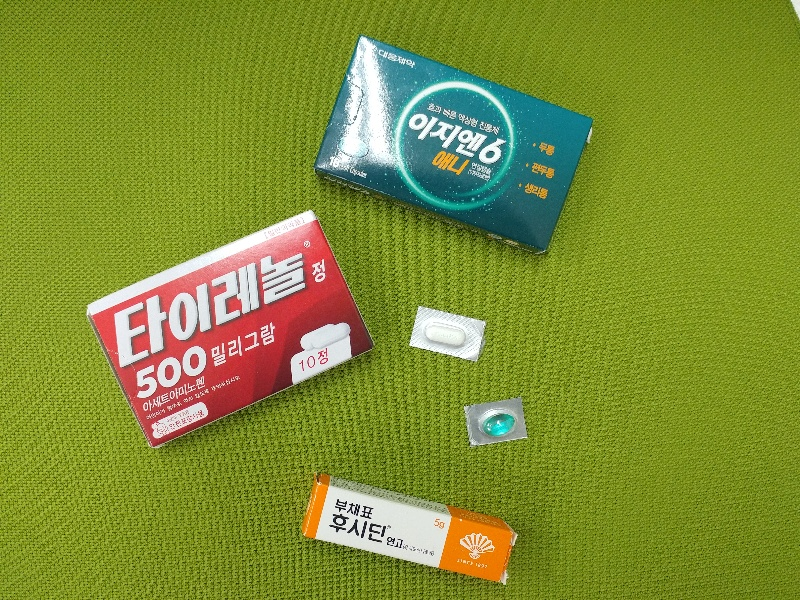ezn: (316, 35, 593, 255)
fucidin: (301, 475, 514, 586)
pill_ezn: (464, 399, 529, 446)
pill_tylenol: (409, 306, 484, 359)
tylenol: (86, 210, 375, 451)
